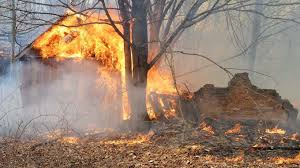fire: (47, 11, 123, 63), (150, 73, 188, 118)
smoke: (6, 63, 97, 129)
